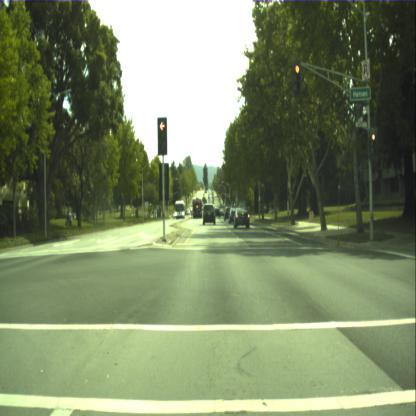Red: (292, 61, 300, 96), (370, 133, 376, 155)
RedLeft: (158, 118, 166, 154)
